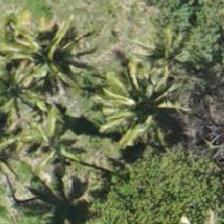coconut_tree: (88, 62, 178, 152), (6, 14, 96, 104)
